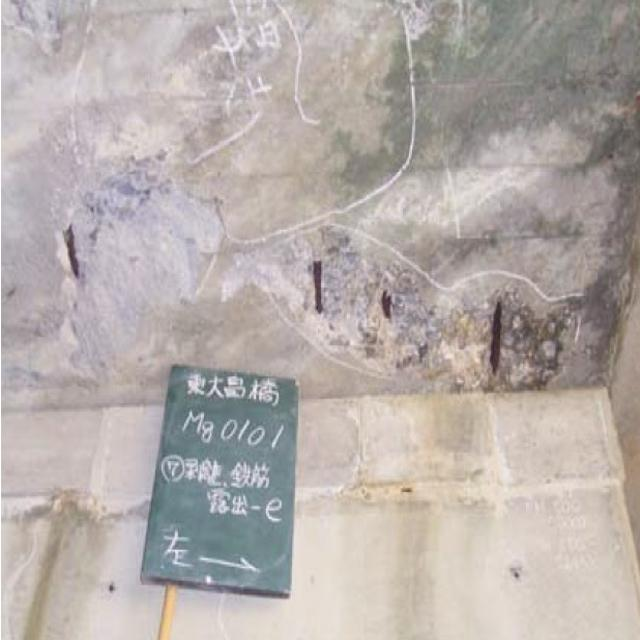spalling: (274, 207, 596, 397), (48, 143, 218, 373)
